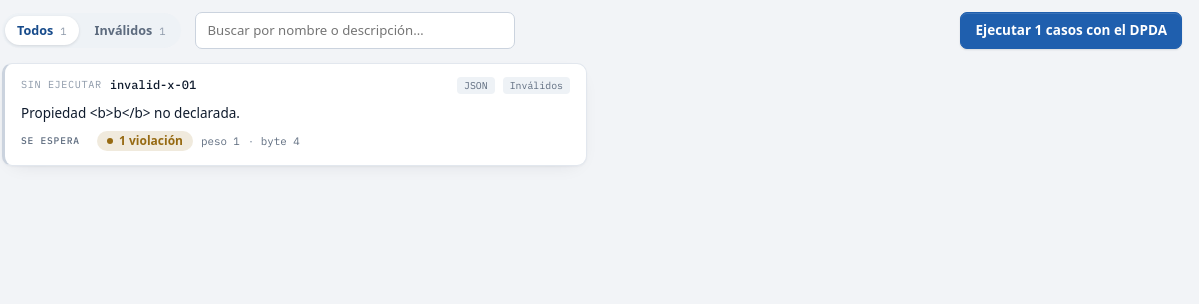
Scenario: Casos › lista los casos con su descripción y, al ejecutar, lo que dio M
expect the text "Propiedad <b>b</b> no declarada." is shown: met, box x1=21 y1=104 x2=240 y2=122
expect the text "1 violación" is shown: met, box x1=97 y1=131 x2=193 y2=151
Click the button "Ejecutar 1 casos con el DPDA".
click(1071, 30)  # box x1=960 y1=12 x2=1182 y2=49
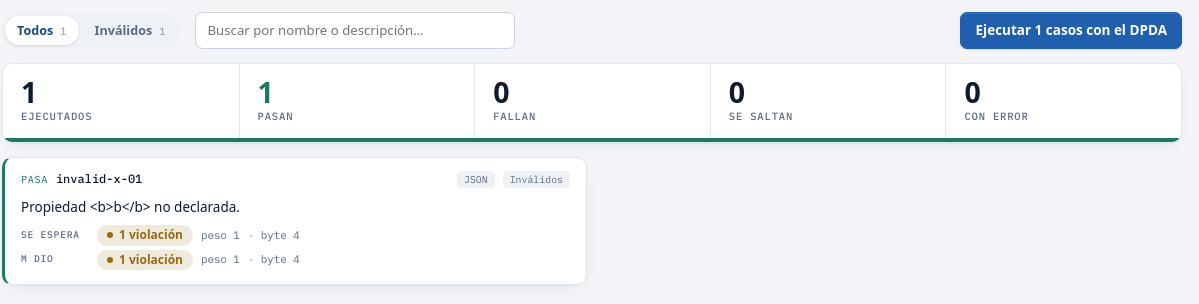
expect the text "pasa" is shown: met, box x1=21 y1=172 x2=48 y2=187
expect the text "1 violación" is shown 2 times: met, box x1=97 y1=225 x2=193 y2=246; x1=97 y1=250 x2=193 y2=270
